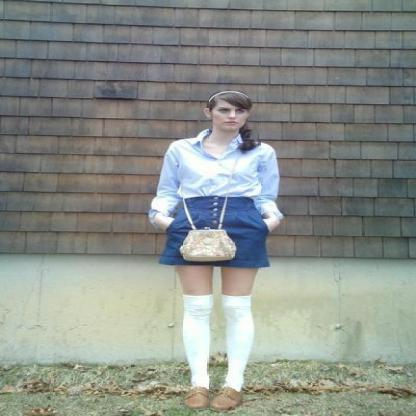bag: (180, 225, 235, 274)
shirt: (149, 130, 282, 228)
shoe: (212, 394, 239, 415)
shorts: (159, 196, 271, 269)
